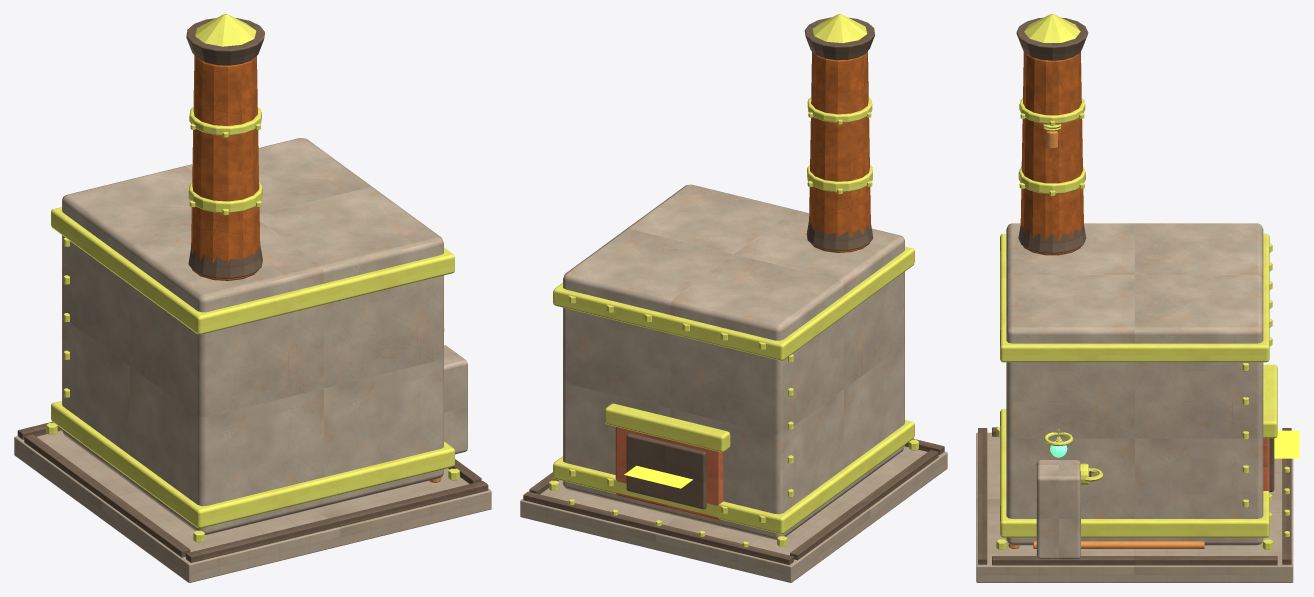
Rendered from ff-steel-furnace.glb.
The picture shows the model from 3 angles, left to right: view 1: azimuth 30°, elevation 25°; view 2: azimuth 150°, elevation 25°; view 3: azimuth 270°, elevation 25°; orthographic projection. The views are drawn at different scales.
Parts seen in each view (by area): view 1: Body.001, Bolt.004, Pad.003, Chimney, PadLipN.003; view 2: Body.001, Bolt.004, Pad.003, PadLipN.003, Chimney, Throat, GlowFire.002; view 3: Body.001, Bolt.004, Pad.003, Chimney, PadLipN.003, PadPipe.003, GlowFire.002.
Boxes of the visible parts, <box> form: Body.001: <box>62,138,467,534</box>; Bolt.004: <box>46,14,459,542</box>; Pad.003: <box>14,430,491,582</box>; Chimney: <box>191,55,260,280</box>; PadLipN.003: <box>17,18,488,562</box>; Body.001: <box>563,184,904,539</box>; Bolt.004: <box>549,14,918,547</box>; Pad.003: <box>520,446,947,582</box>; PadLipN.003: <box>523,17,944,564</box>; Chimney: <box>809,51,870,252</box>; Throat: <box>615,427,723,520</box>; GlowFire.002: <box>624,465,692,488</box>; Body.001: <box>1006,223,1263,559</box>; Bolt.004: <box>996,14,1289,549</box>; Pad.003: <box>976,432,1293,582</box>; Chimney: <box>1020,52,1083,255</box>; PadLipN.003: <box>978,17,1291,565</box>; PadPipe.003: <box>1008,131,1204,548</box>; GlowFire.002: <box>1274,430,1299,458</box>.
Bounding box in the file's own units: 2.07 × 3.27 × 2.04.
Materials: 12 (9 with a texture image).
